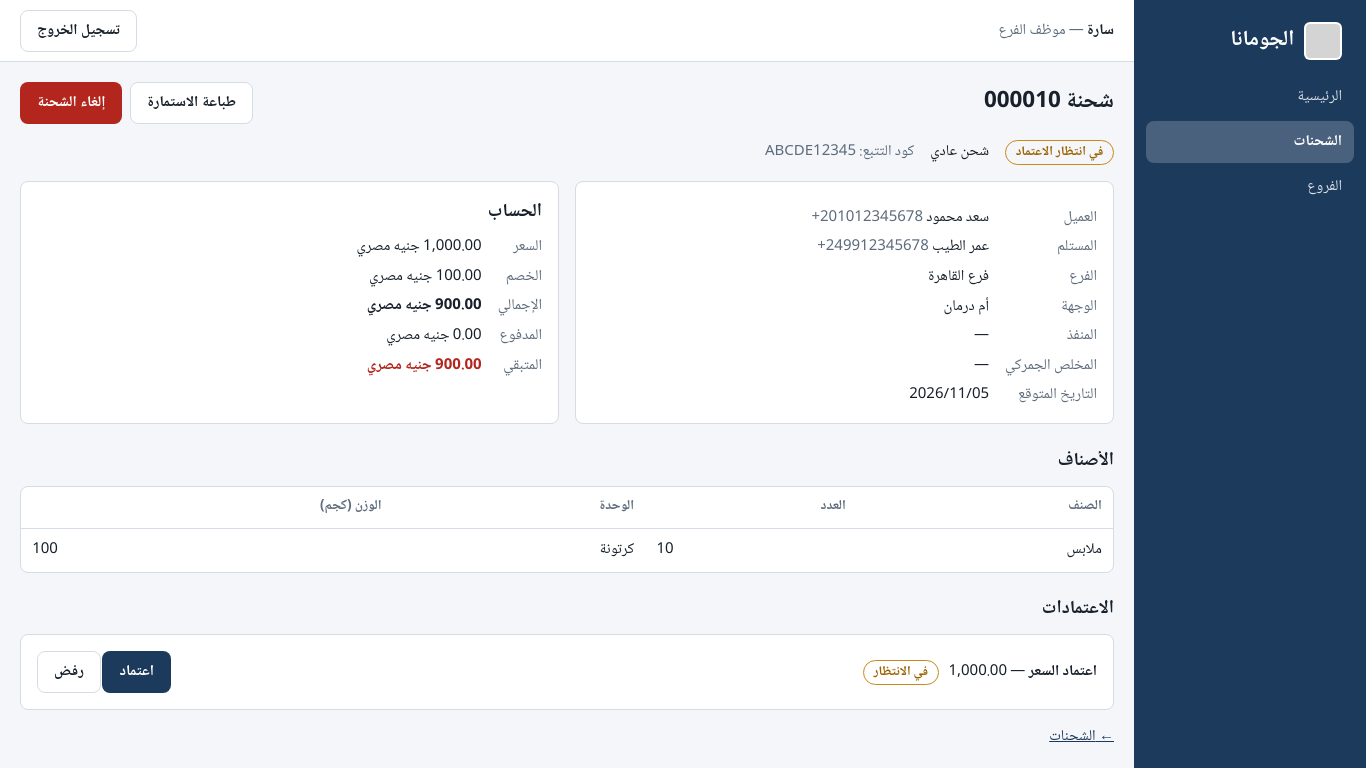
Scenario: shipment file › lets the owner approve a pending price and refetches the file
Click the button "اعتماد". click: {"x": 137, "y": 672}
box: [102, 651, 171, 693]
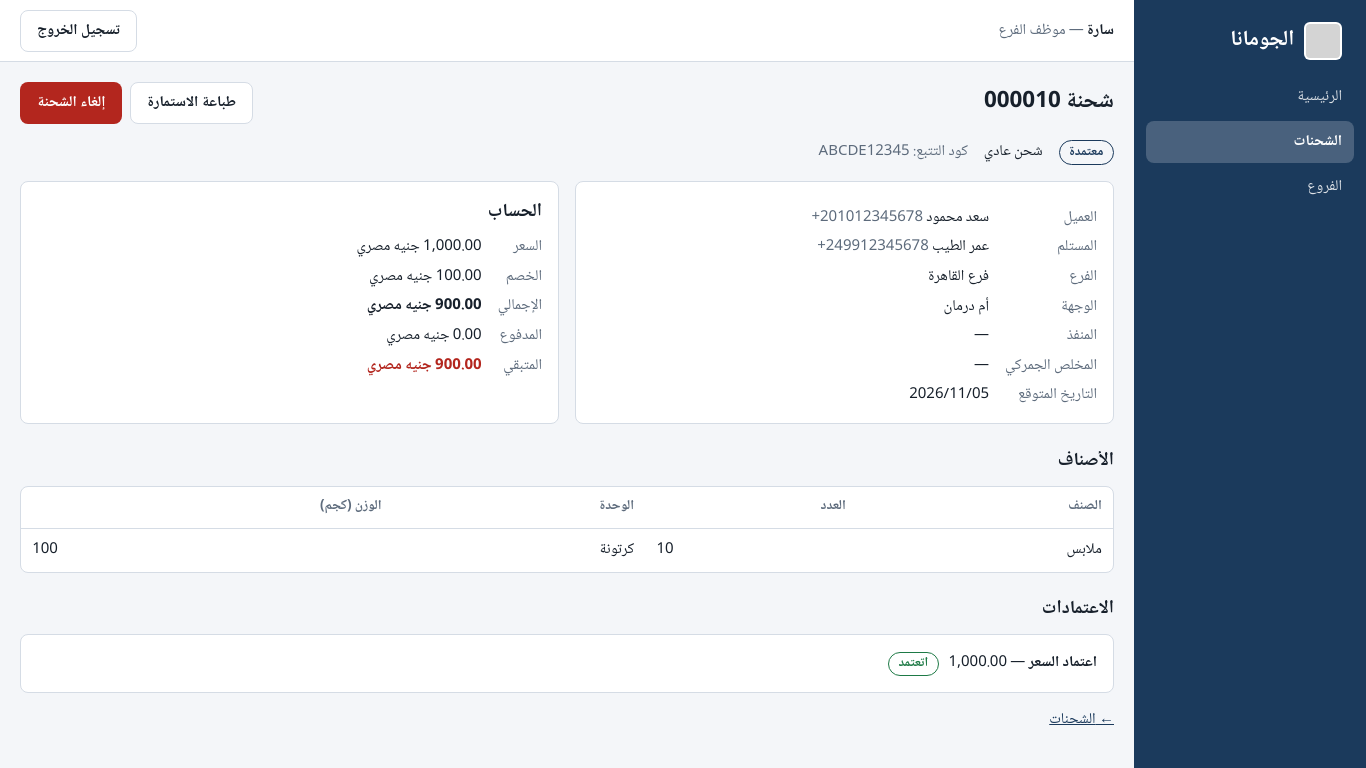
Expected: the text "معتمدة" is shown, [1059, 140, 1114, 165]
